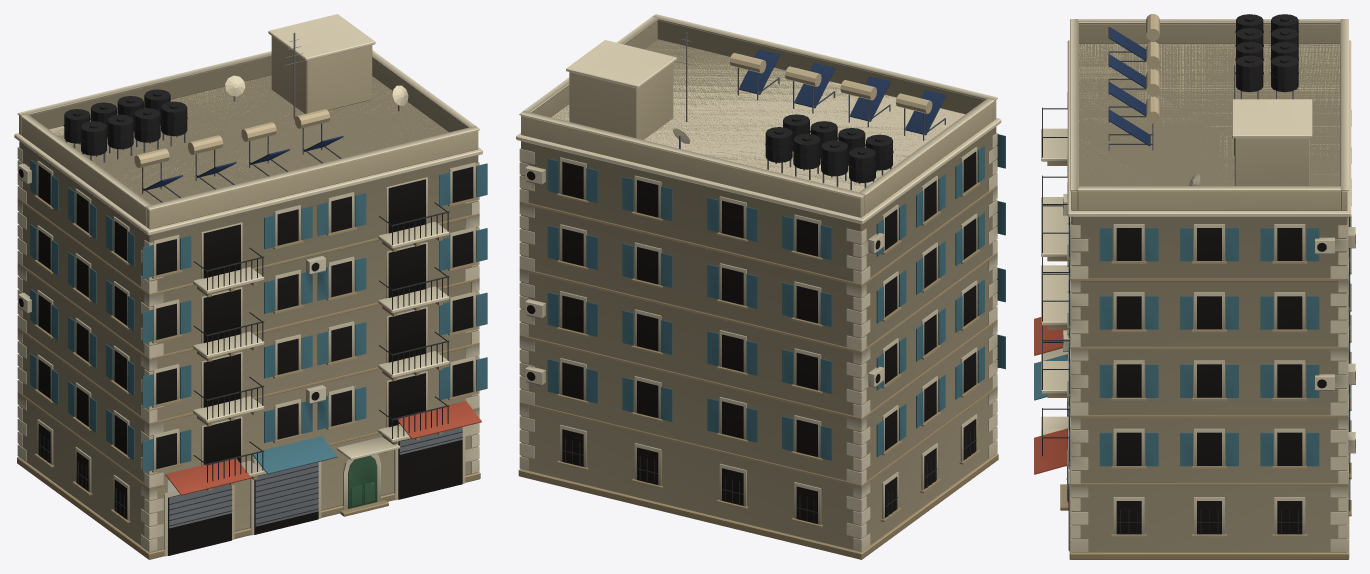
File: jlm_block.glb
The picture shows the model from 3 angles, left to right: view 1: azimuth 30°, elevation 25°; view 2: azimuth 150°, elevation 25°; view 3: azimuth 270°, elevation 25°; orthographic projection. The views are drawn at different scales.
Visible parts, largest first — view 1: jlm_block; view 2: jlm_block; view 3: jlm_block.
Boxes of the visible parts, x1,y1,x2,y2 form: jlm_block: (14,14,487,559); jlm_block: (516,14,1005,559); jlm_block: (1034,14,1355,559).
Size of the model in its own units: 16.74 by 19.3 by 12.81.
